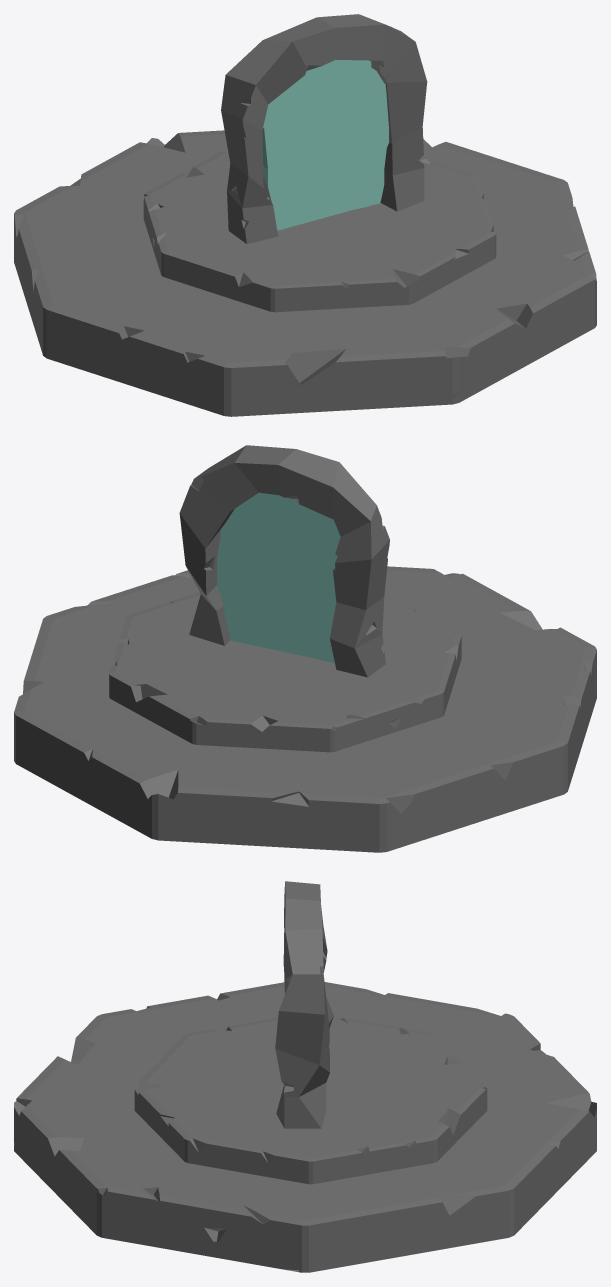
File: portail.fbx
3 views of the same model, one above another, from view 1: azimuth 30°, elevation 25°; view 2: azimuth 150°, elevation 25°; view 3: azimuth 270°, elevation 25° (orthographic). The views are drawn at different scales.
Visible parts, largest first — view 1: Cylinder, Cube.002, Cube.003; view 2: Cylinder, Cube.002, Cube.003; view 3: Cylinder, Cube.002.
Part boxes in pixels (bbox=[...]): Cylinder: bbox=[14, 130, 596, 416]; Cube.002: bbox=[221, 14, 427, 243]; Cube.003: bbox=[262, 60, 389, 230]; Cylinder: bbox=[14, 566, 596, 852]; Cube.002: bbox=[179, 445, 389, 677]; Cube.003: bbox=[217, 492, 340, 663]; Cylinder: bbox=[14, 982, 596, 1272]; Cube.002: bbox=[275, 881, 333, 1128].
Size of the model in its own units: 634 by 312 by 634.
